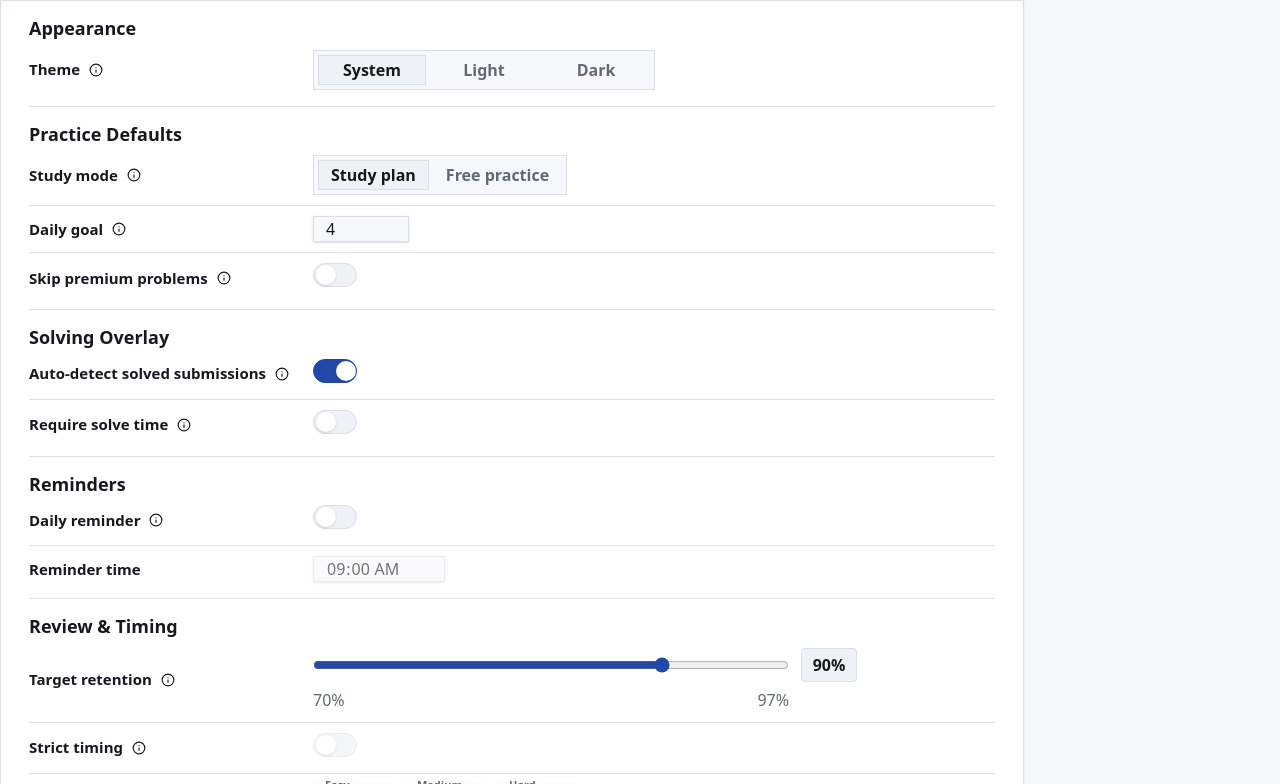
Test: SettingsScreen › shows the strict timing dependency from the disabled switch
The width and height of the screenshot is (1280, 784).
Expected: the heading "Practice Defaults" is shown, [29,122,182,146]
Expected: the text "Enable Require solve time before using strict timing." is not shown
Hover over the switch named "Strict timing" in the row of "Strict timing": (335, 744) [313,732,357,756]
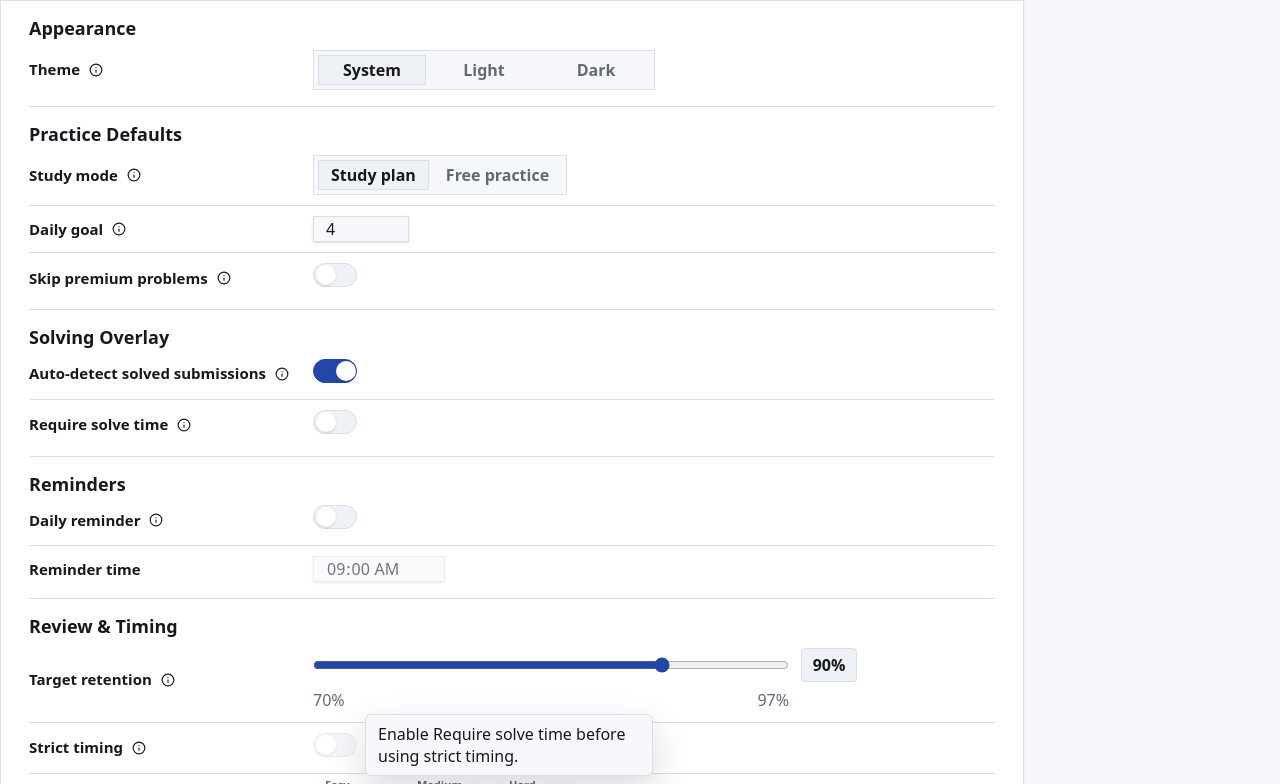
Expected: the tooltip reads "Enable Require solve time before using strict timing.", [378,722,625,766]
Move the pointer off the switch named "Strict timing" below "70%", box [313,732,357,756]
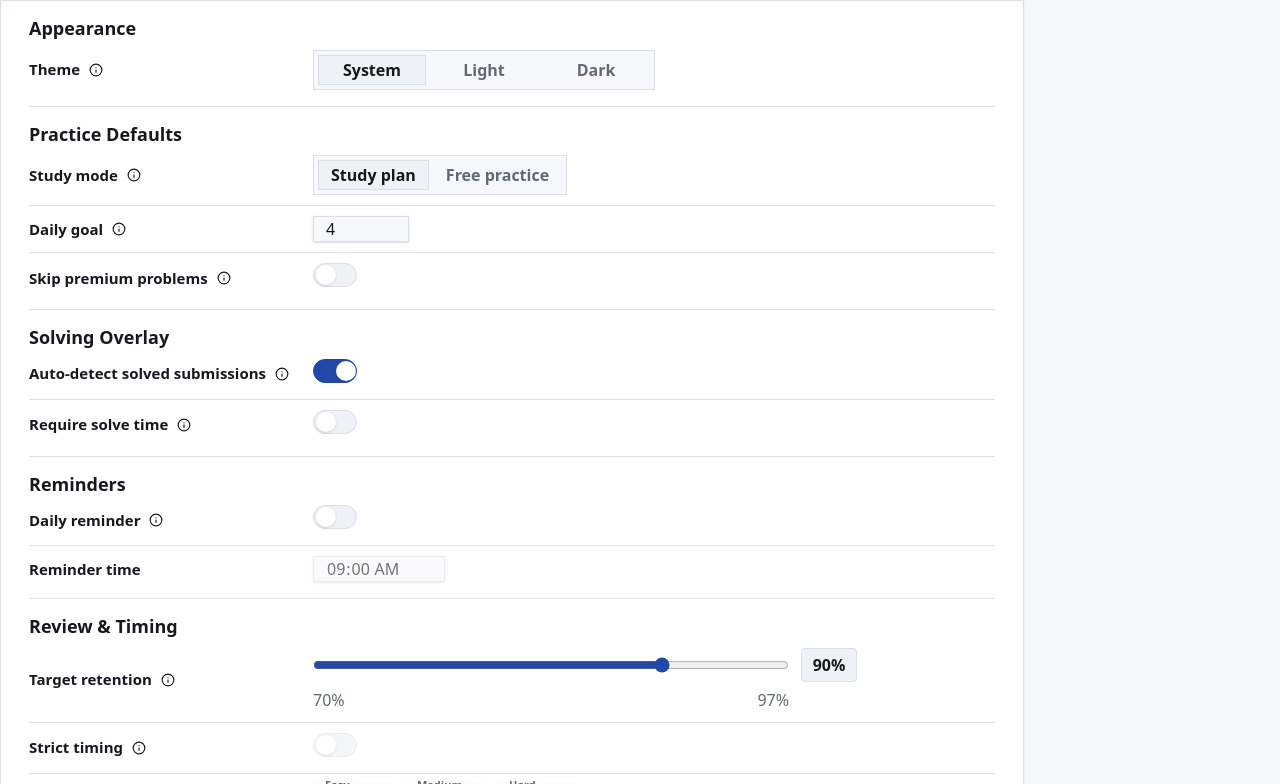
Expected: the tooltip "Enable Require solve time before using strict timing." is gone
Click the switch named "Strict timing" in the row of "Strict timing": (335, 744) [313,732,357,756]
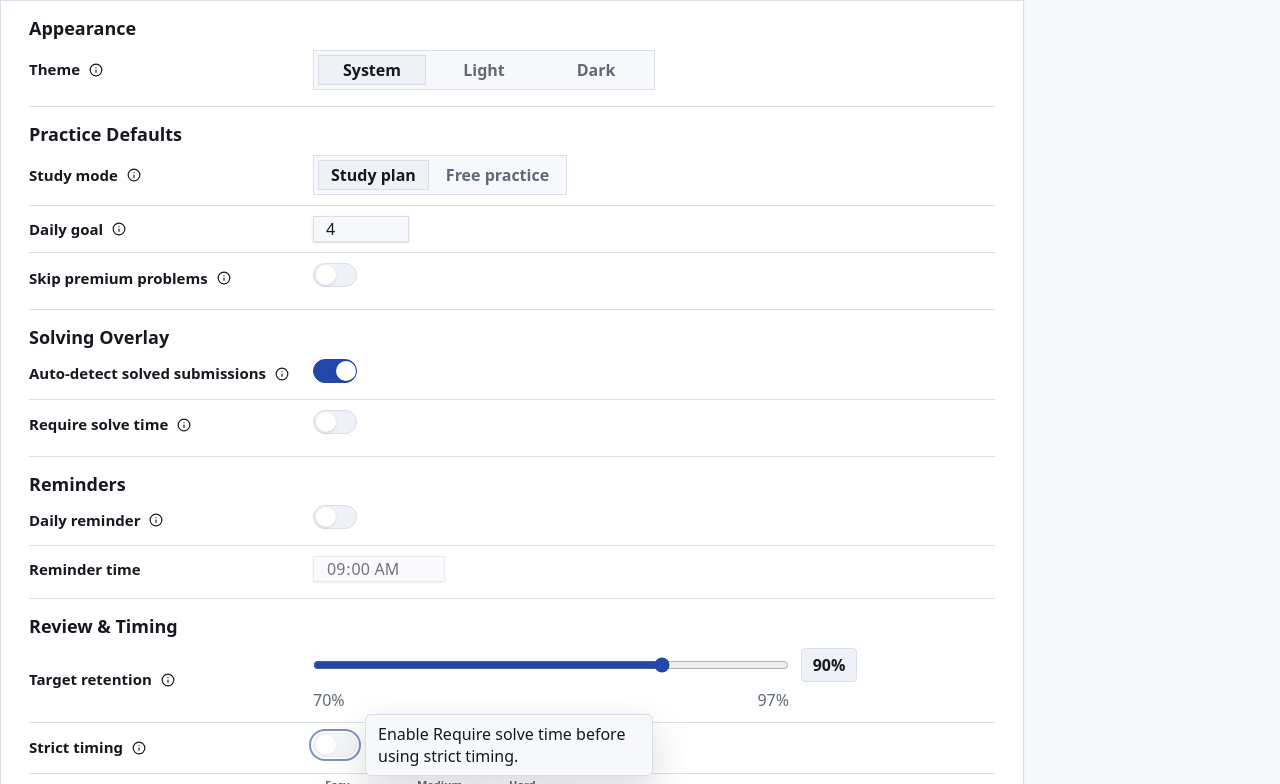
Expected: the tooltip reads "Enable Require solve time before using strict timing.", [378,722,625,766]
Press Escape
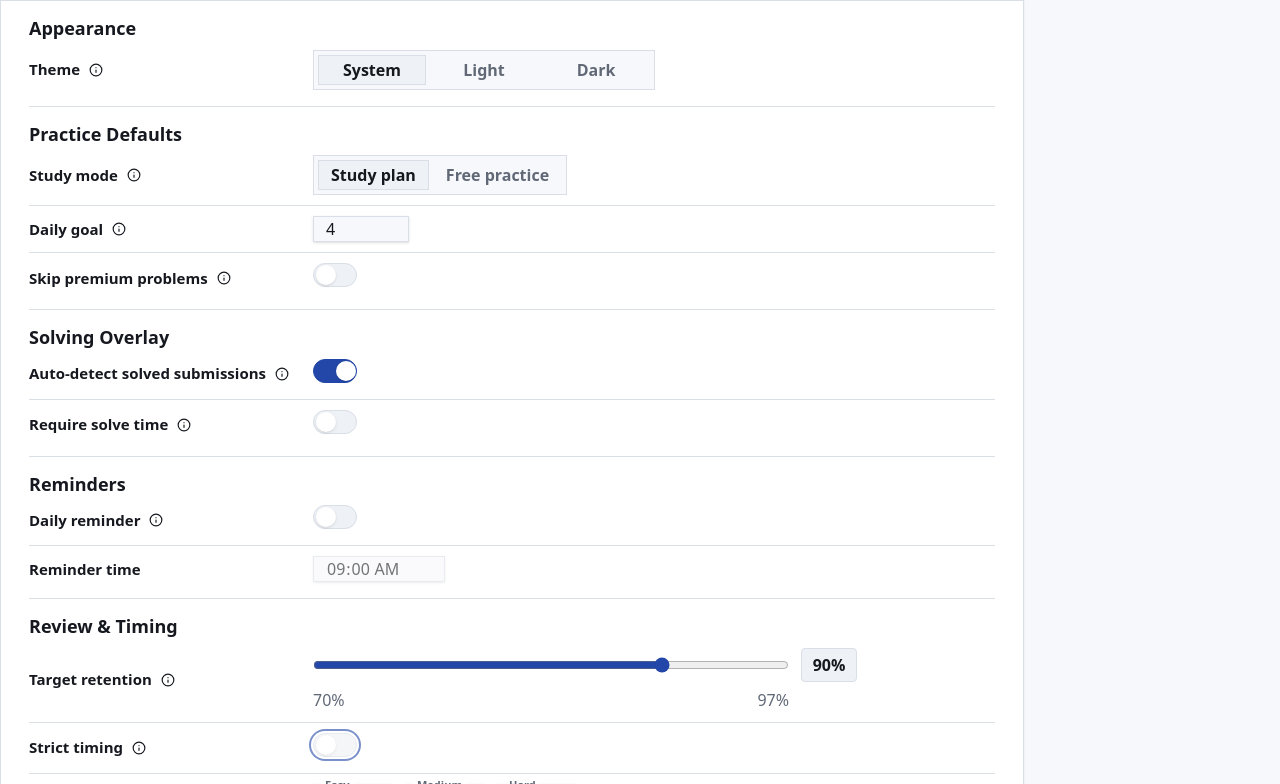
Expected: the tooltip "Enable Require solve time before using strict timing." is gone
